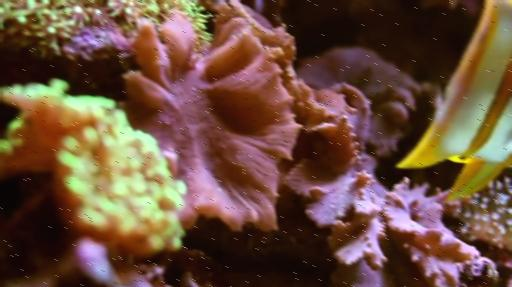Fish: (396, 3, 511, 198)
